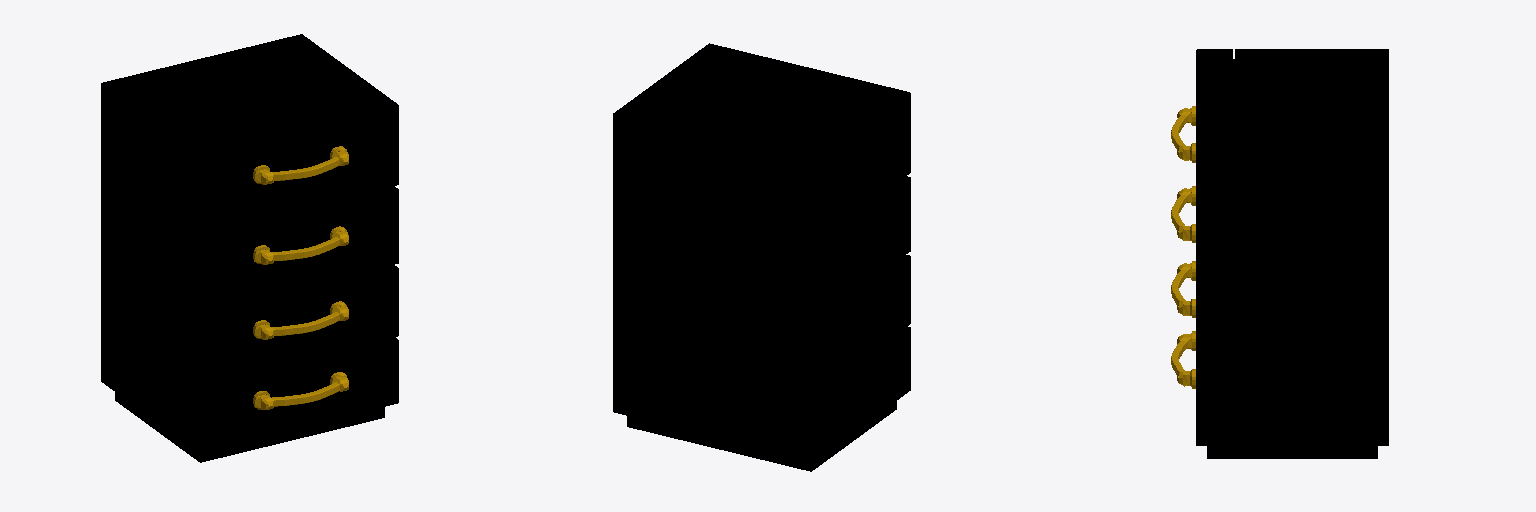
3 renders of one model, left to right at view 1: azimuth 30°, elevation 25°; view 2: azimuth 150°, elevation 25°; view 3: azimuth 270°, elevation 25°, orthographic.
Size of the model in its own units: 2.39 by 3.57 by 2.23.
Materials: 3 (1 with a texture image).